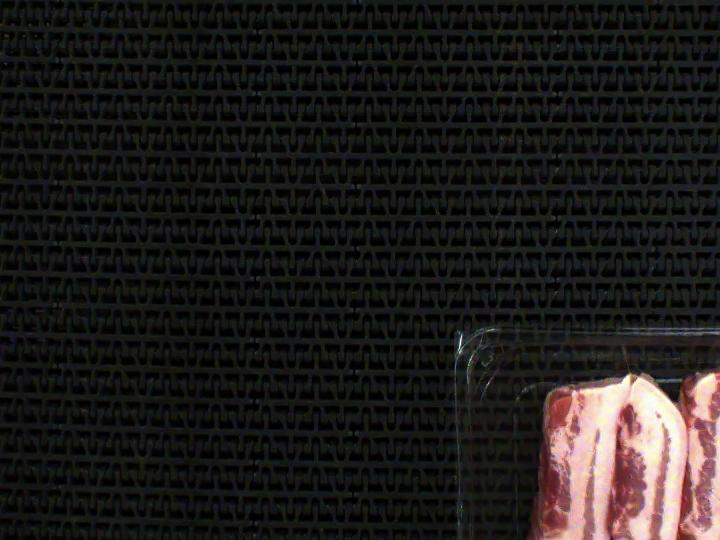packaging-error: (616, 343, 641, 379)
